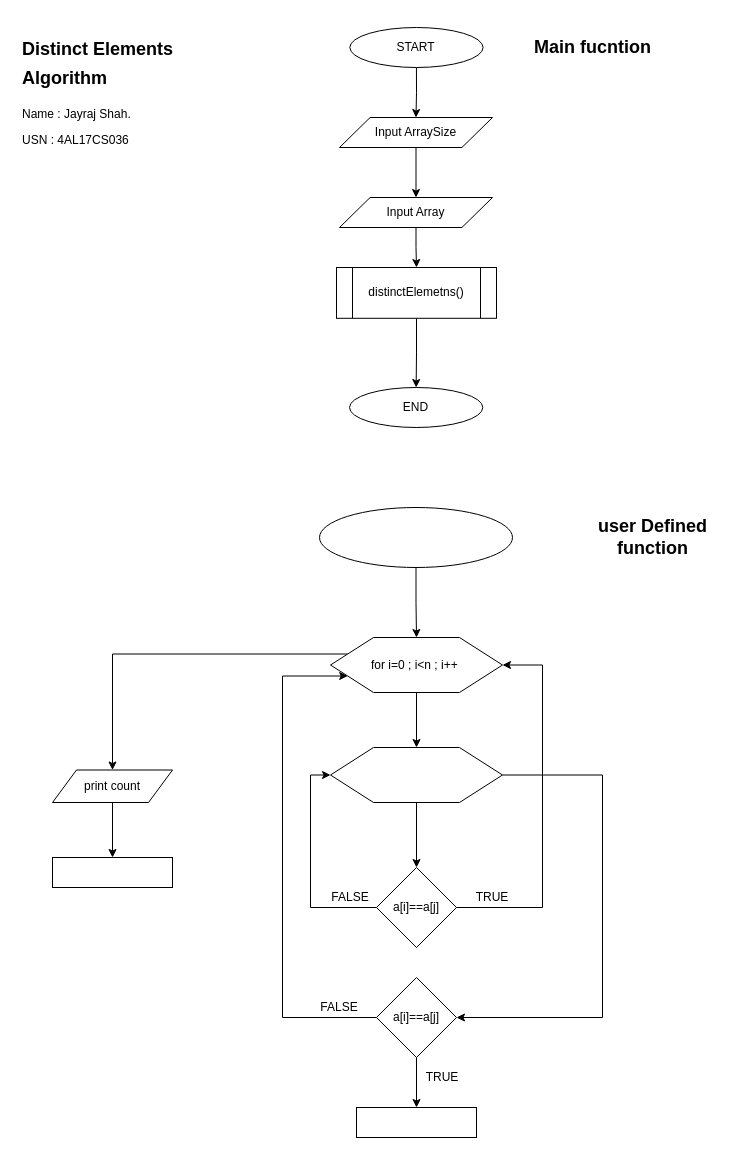
The diagram is 731 pixels wide and 1155 high, and some of its shapes have lost their labels. Here are the shapes that lost their labels. From the top down, the centre of each, then its label:
At point (415, 537): "distinctElemets(a,n)".
At point (416, 774): "for j=0 ; j<i ; j++".
At point (112, 872): "return".
At point (416, 1122): "count++".
